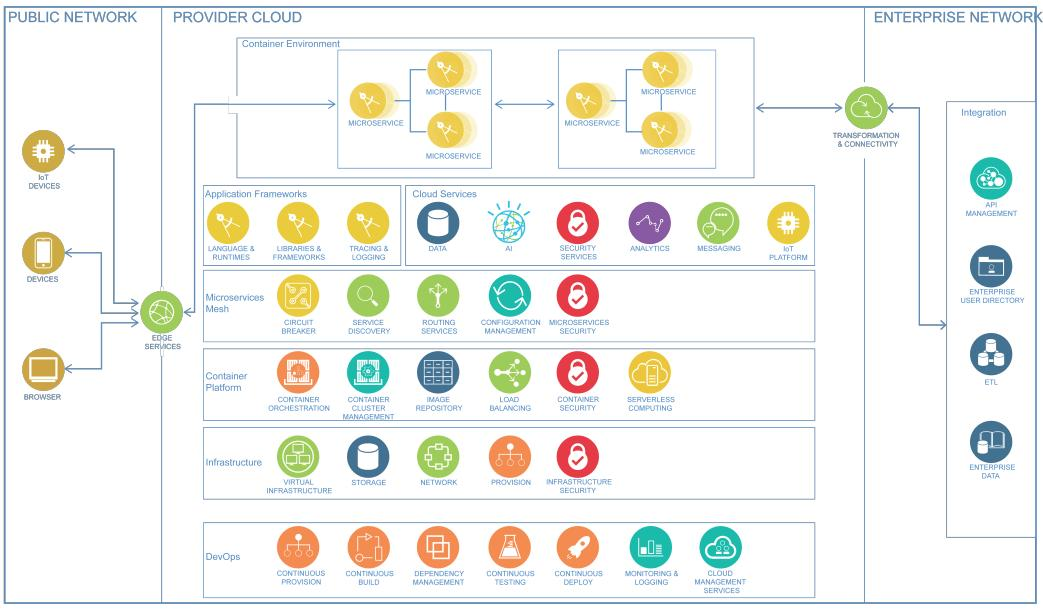AI Service: (482, 197, 531, 246)
API Gateway: (843, 82, 888, 131)
Backend: (961, 150, 1017, 201), (274, 349, 323, 396), (344, 348, 393, 394), (696, 524, 743, 571), (625, 349, 674, 394), (274, 273, 321, 319), (344, 200, 391, 244), (275, 200, 320, 245), (419, 49, 466, 90), (208, 201, 249, 244), (639, 110, 681, 149), (640, 49, 681, 88), (565, 79, 602, 118), (351, 80, 386, 117), (431, 114, 462, 144)
Configuration: (624, 524, 676, 572)
Database: (963, 329, 1022, 376), (966, 416, 1016, 462), (414, 198, 460, 244), (344, 434, 392, 478)
Firewall: (553, 433, 603, 479), (553, 273, 603, 317), (555, 201, 602, 246), (553, 351, 601, 395)
Frontend: (144, 295, 177, 328)
Load Balancer: (486, 349, 533, 396)
Macine Learning: (765, 199, 812, 245)
Messaging: (694, 199, 744, 245)
Networking: (415, 433, 460, 479)
Search: (346, 272, 389, 319)
Storage: (967, 243, 1016, 290), (414, 348, 458, 396)
User: (24, 227, 62, 274), (19, 131, 63, 169), (23, 348, 61, 388)
VPC: (272, 432, 321, 480)
Workflow Engine: (486, 522, 531, 571), (487, 433, 532, 481), (275, 523, 321, 569), (554, 523, 600, 569), (345, 524, 392, 569), (416, 524, 461, 571)
